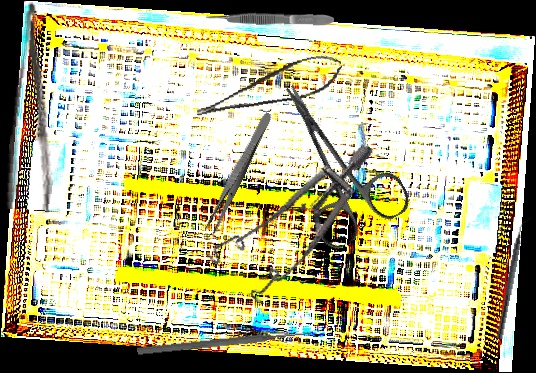Chopper: (496, 215, 533, 341)
Dressing Forceps: (2, 1, 72, 214), (202, 109, 274, 237)
Iris Scissors: (250, 61, 415, 254)
Micro Scissor: (190, 49, 347, 122)
Pusher: (136, 327, 312, 358)
Speculum: (197, 109, 375, 323)
Tissue Forceps: (205, 9, 335, 28)
